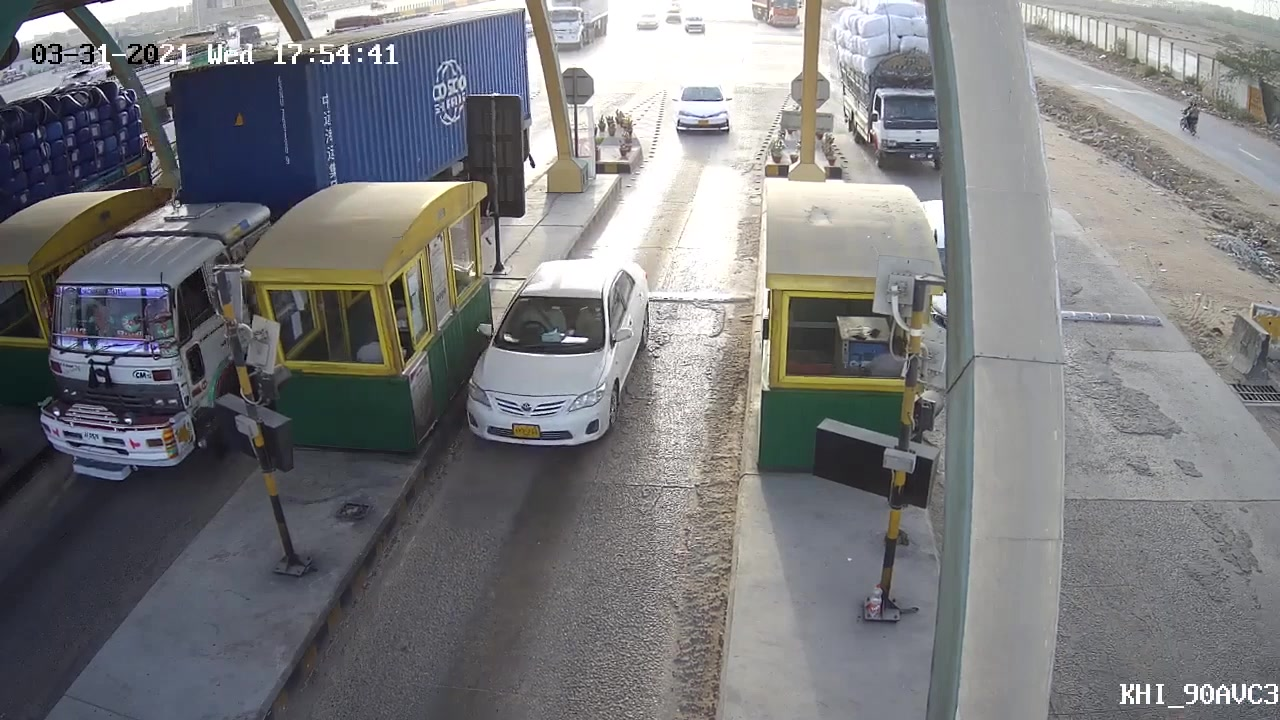F1: (451, 252, 661, 456)
